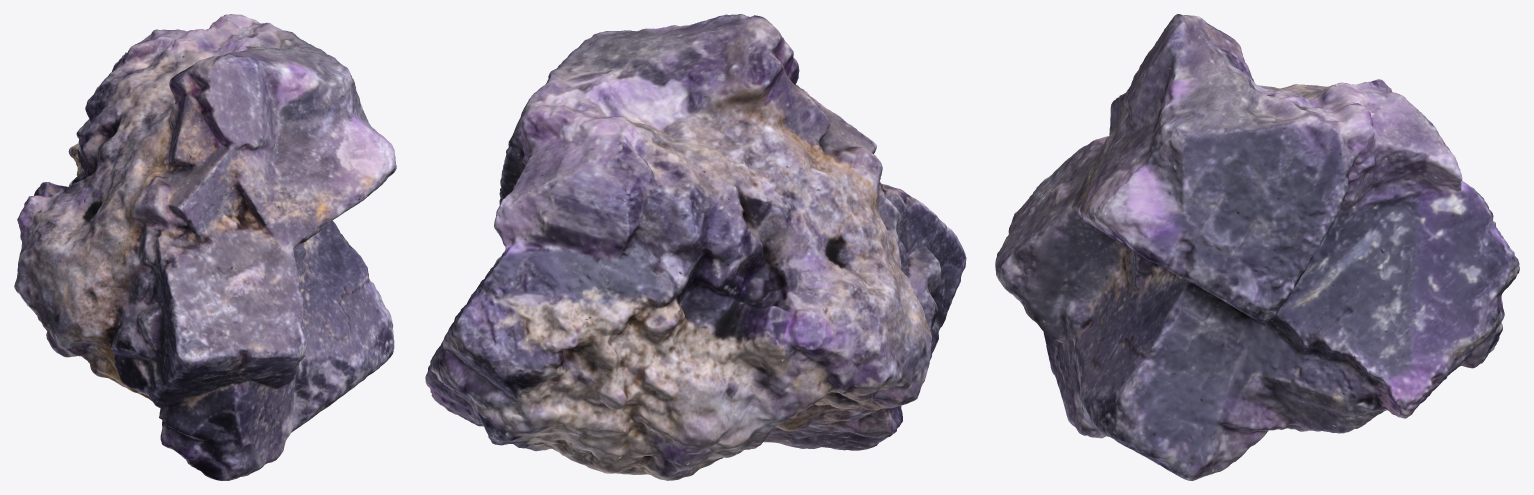
Rendered from fluorite.glb.
3 renders of one model, left to right at view 1: azimuth 30°, elevation 25°; view 2: azimuth 150°, elevation 25°; view 3: azimuth 270°, elevation 25°, orthographic. The views are drawn at different scales.
Parts seen in each view (by area): view 1: default; view 2: default; view 3: default.
Part boxes in pixels (<box>): default: <box>14,14,396,480</box>; default: <box>425,14,966,480</box>; default: <box>995,14,1519,480</box>.
Bounding box in the file's own units: 0.00132 × 0.00146 × 0.00164.
1 material, 1 textured.
